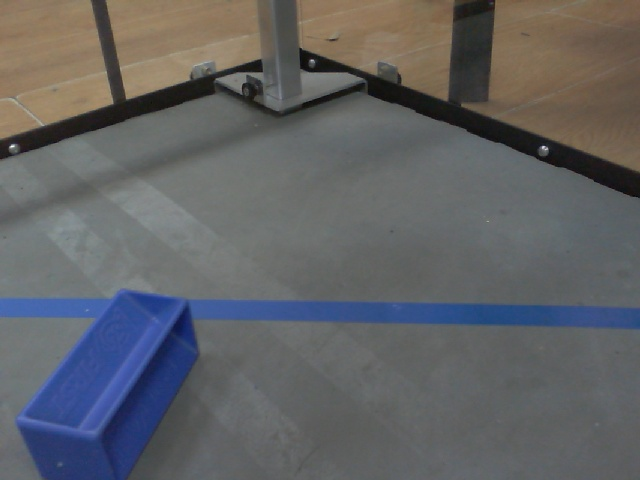BlueSample: (12, 287, 201, 480)
